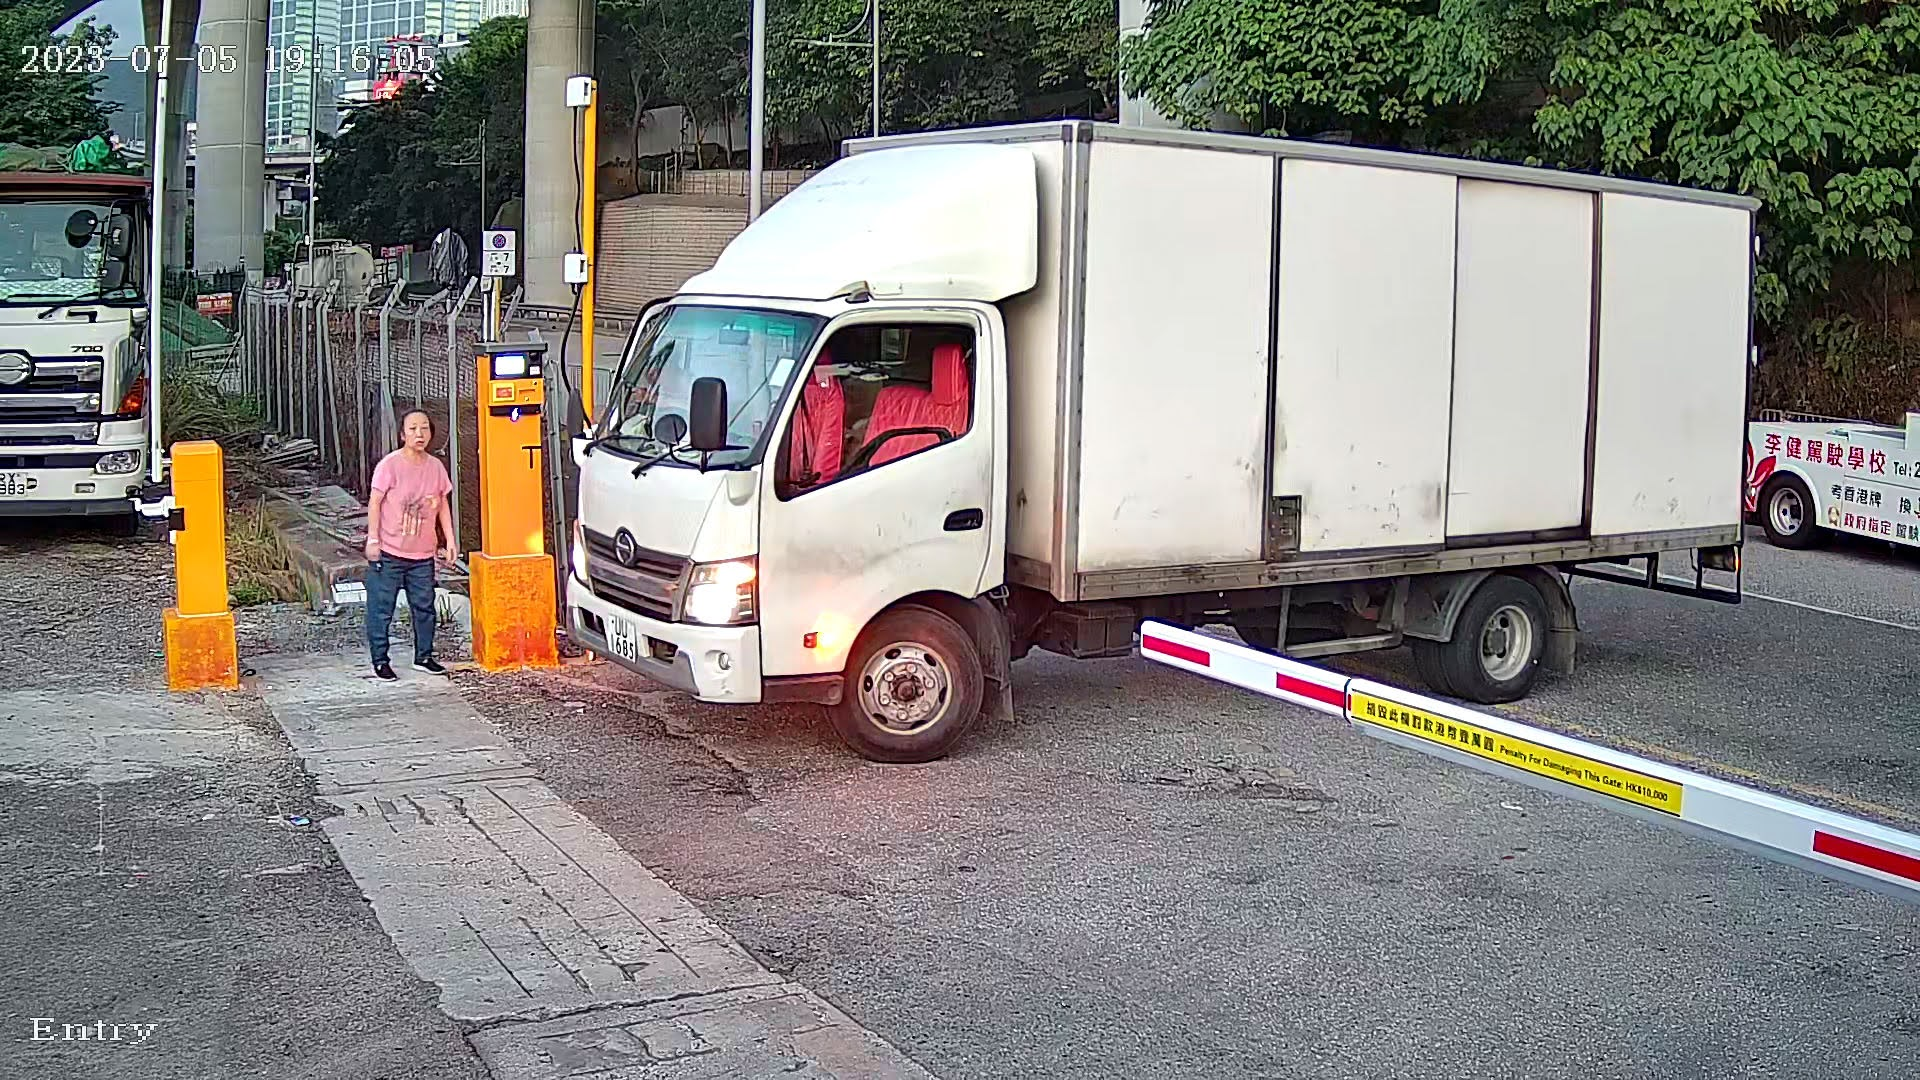truck_small: (520, 65, 1815, 775)
